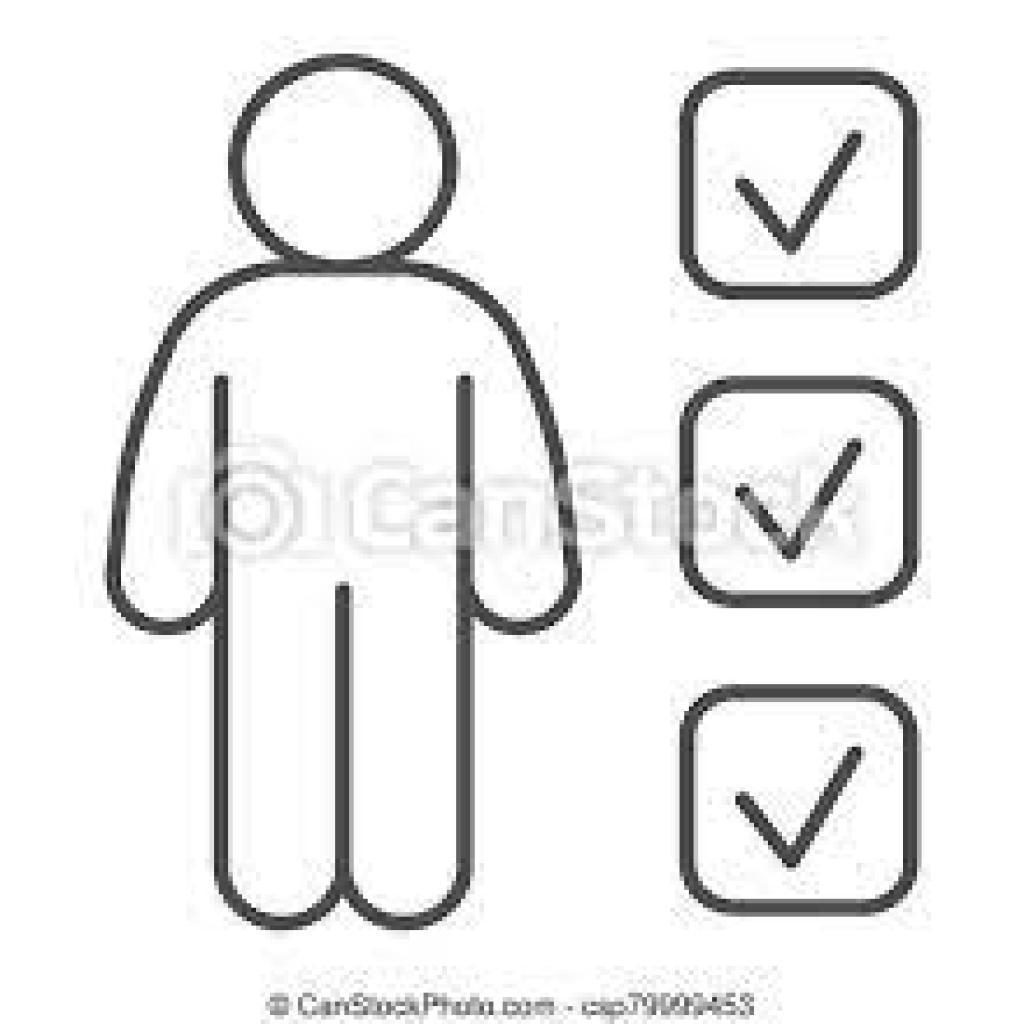checkbox: (670, 57, 937, 311), (674, 676, 937, 928), (674, 369, 930, 617)
